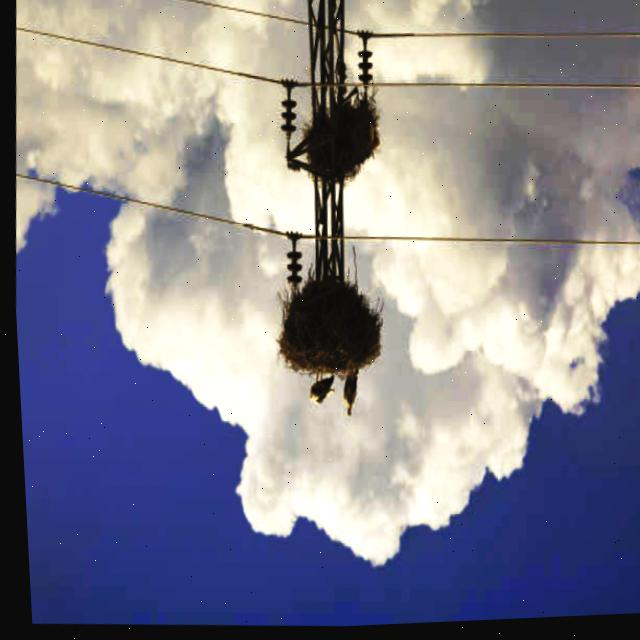obstruction: (278, 96, 392, 190), (275, 280, 375, 381)
poles: (300, 0, 356, 277)
wires: (14, 172, 293, 239), (16, 24, 280, 88), (370, 73, 640, 109), (340, 226, 640, 254), (369, 33, 640, 54), (149, 0, 306, 32)
